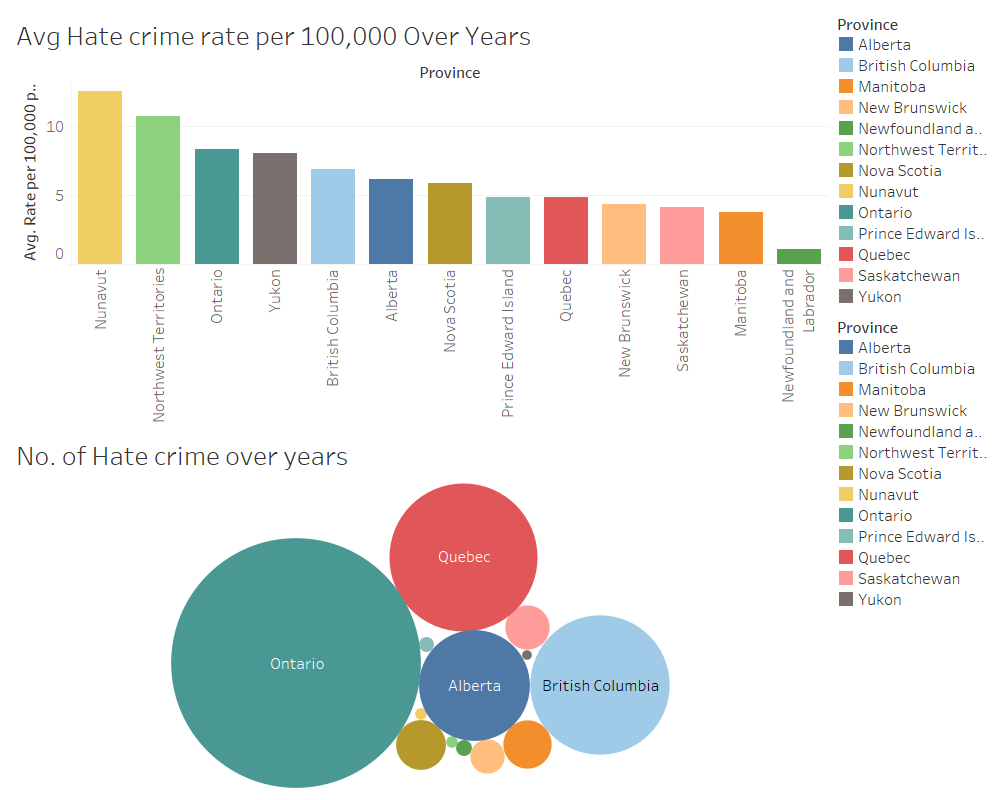

The dashboard page shown, as its layout file describes it:
{"tool":"tableau","page":{"name":"Hate Crime Trends in Canada","canvas":[1000,800],"ordinal":0},"visuals":[{"type":"worksheet","title":"Avg Hate crime rate per 100,000 Over Years","mark":"Automatic","rows":["Rate per 100,000 population"],"cols":["GEO"],"box":[8,8,824,420]},{"type":"legend","title":"Avg Hate crime rate per 100,000 Over Years","param":"[federated.1g51fso1dklhiv16lrga411izy02].[none:GEO:nk]","box":[832,8,160,303]},{"type":"legend","title":"No. of Hate crime over years","param":"[federated.1g51fso1dklhiv16lrga411izy02].[none:GEO:nk]","box":[832,311,160,303]},{"type":"worksheet","title":"No. of Hate crime over years","mark":"Circle","box":[8,428,824,364]}]}

Visuals, with their boxes in screenshot pixels (x1, y1, x2, y2), scaled from the page's 1000x800 canvas onto the 1000x800 screenshot:
"Avg Hate crime rate per 100,000 Over Years" worksheet: box=[8, 8, 832, 428]
"Avg Hate crime rate per 100,000 Over Years" legend: box=[832, 8, 992, 311]
"No. of Hate crime over years" legend: box=[832, 311, 992, 614]
"No. of Hate crime over years" worksheet (Circle marks): box=[8, 428, 832, 792]
